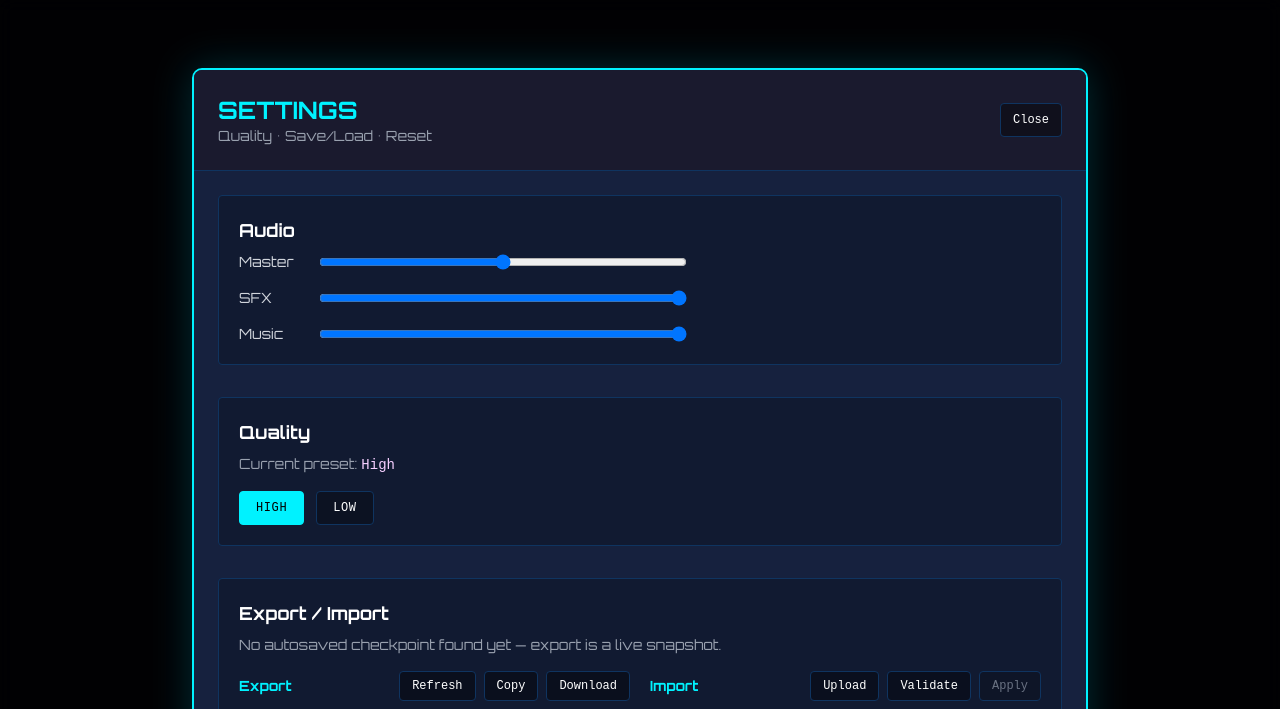
Test: SettingsModal extras › shows copy error when clipboard write fails
What coordinates should you click on to do the following:
click the button "Copy"
I would click on:
 (511, 686)
Its box is [484,670,538,700].
(page scrolled)
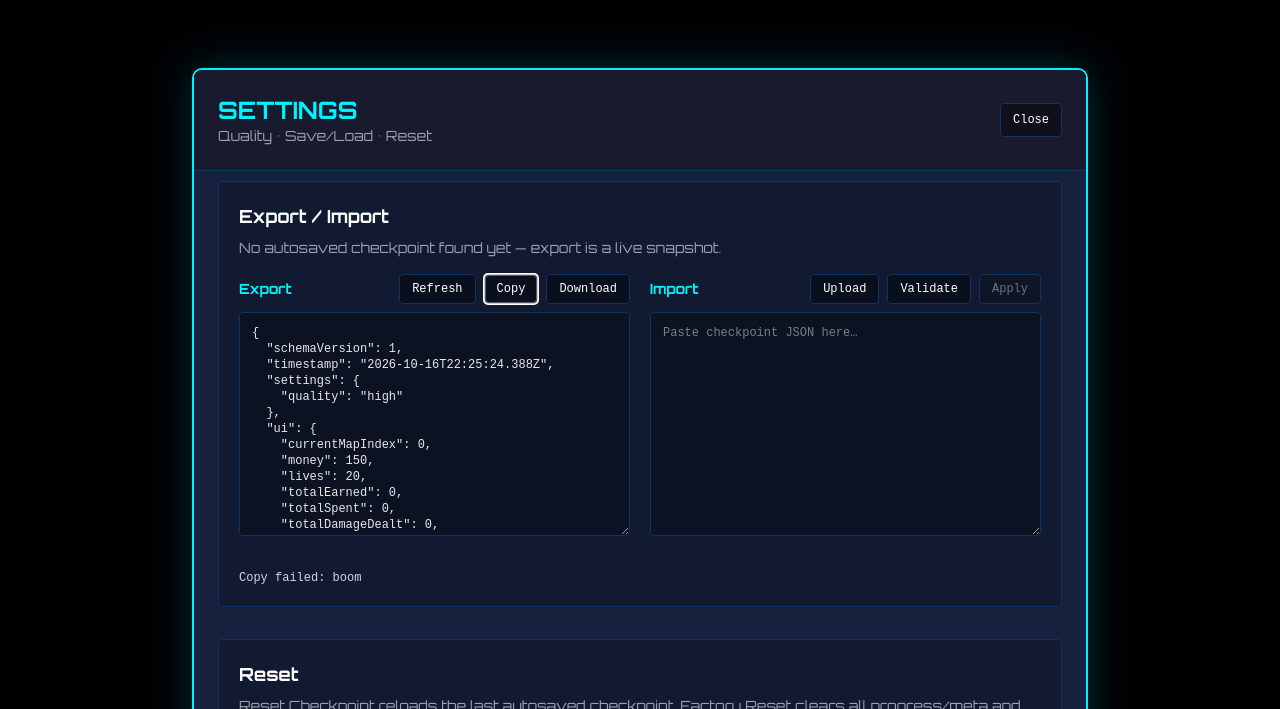
Expected: the text "Copy failed: boom" is shown, [239,570,361,584]
